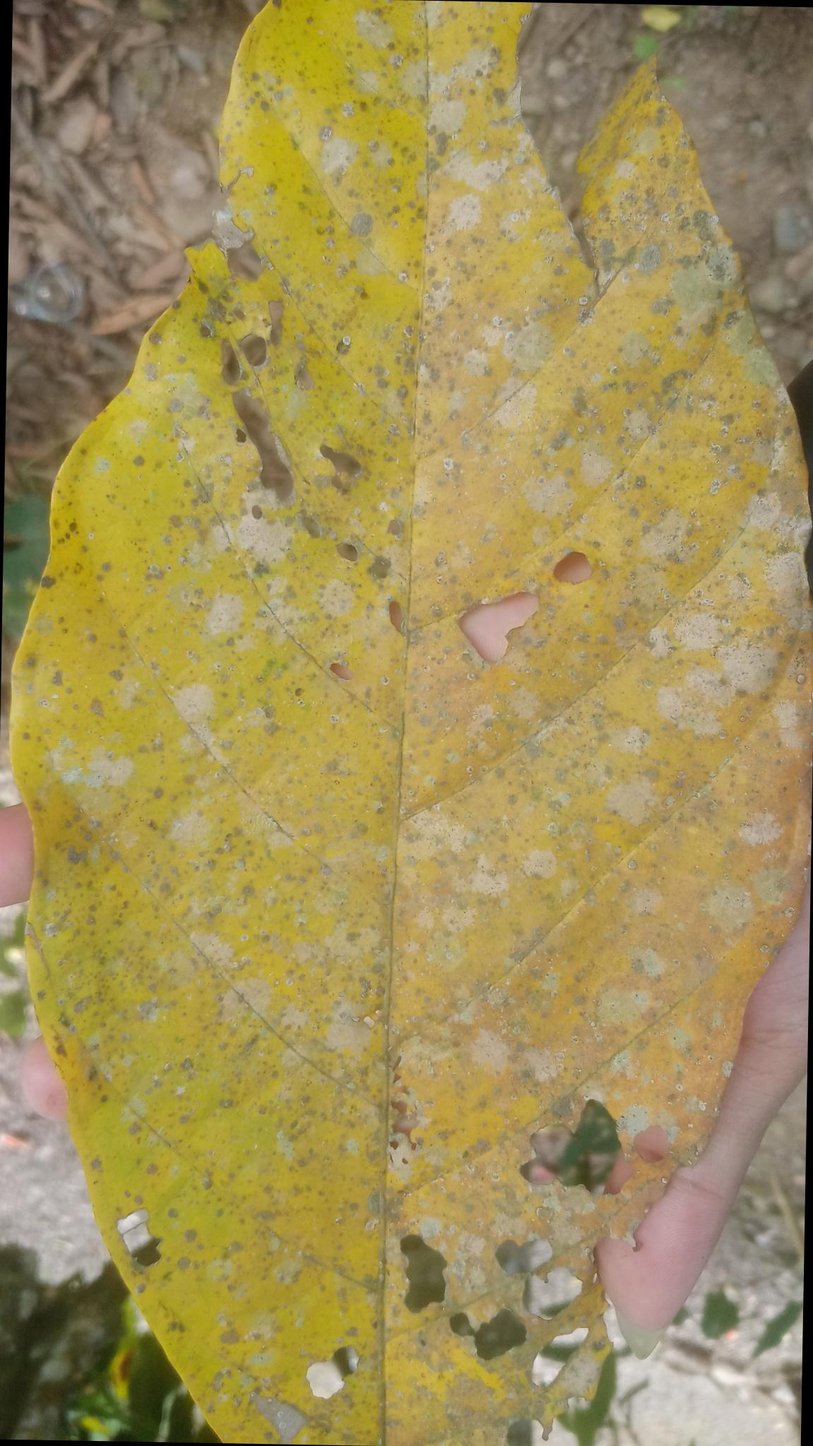Fosforo: (1, 0, 813, 1446)
